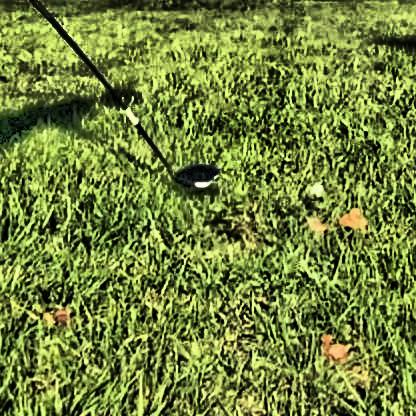golfball: (305, 180, 322, 195)
